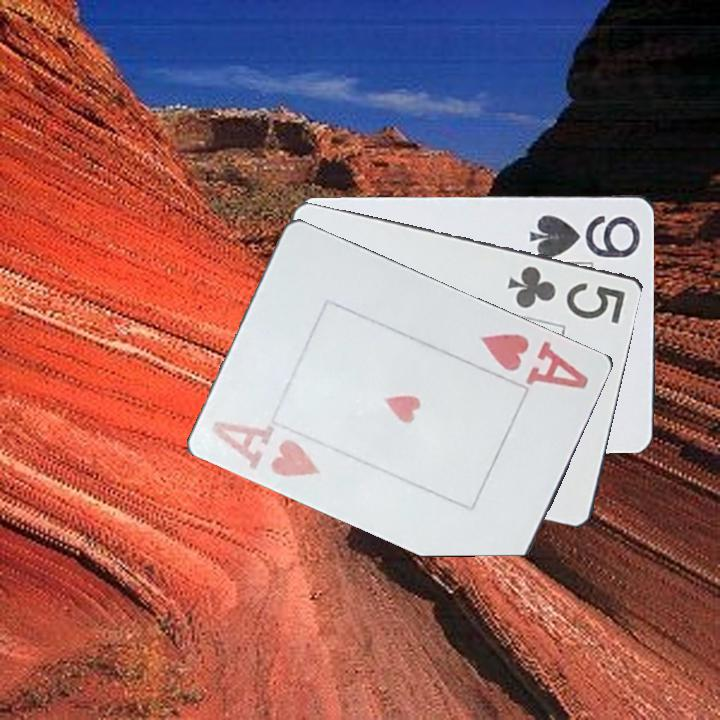5c: (504, 262, 629, 327)
9s: (526, 211, 643, 258)
Ah: (207, 416, 324, 480), (477, 329, 592, 392)
